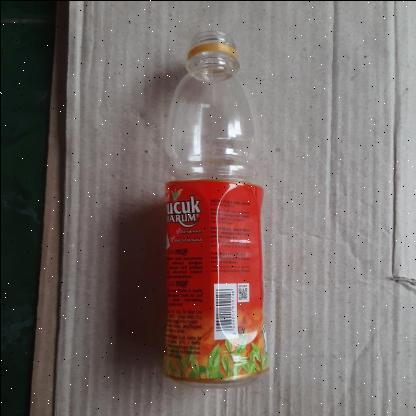Plastic Bottle: (164, 30, 266, 386)
